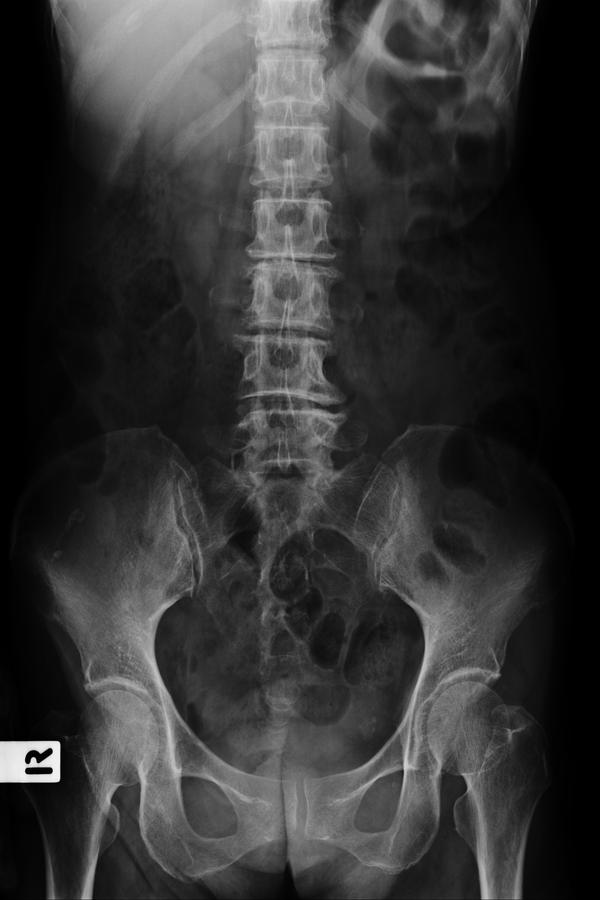not lumbar scoliosis: (244, 158, 336, 509)
